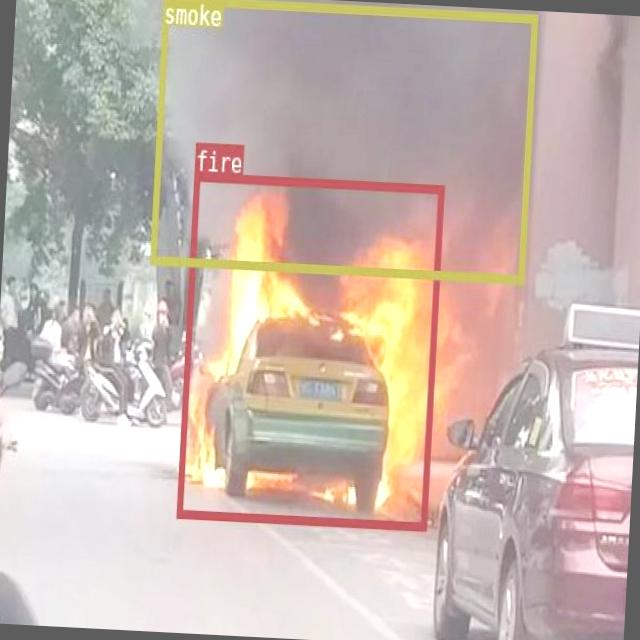fire: (175, 172, 444, 529)
smoke: (149, 0, 536, 282)
